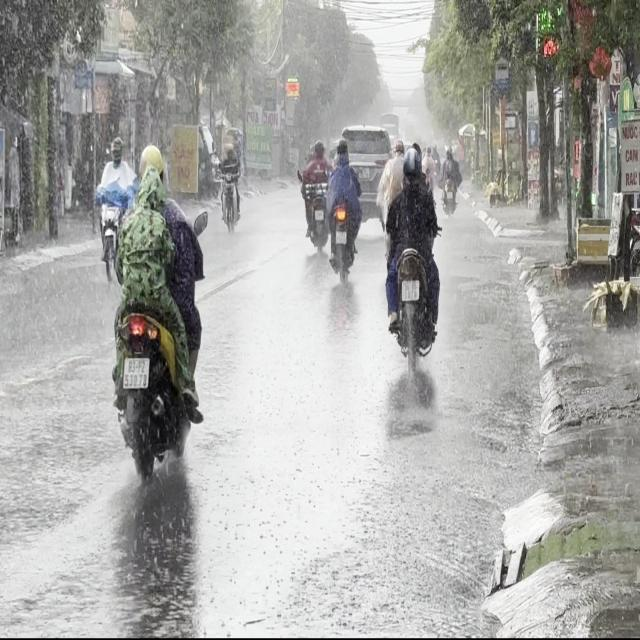helmet: (137, 169, 164, 213), (137, 143, 164, 181), (402, 145, 422, 181)
licenseplate: (102, 137, 207, 489), (380, 140, 442, 368)
nohelmet: (123, 358, 148, 388), (401, 280, 419, 300)
